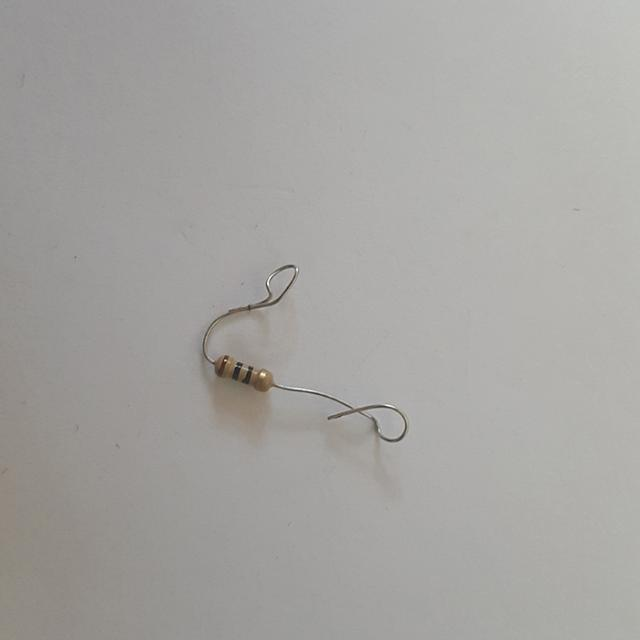black: (231, 362, 241, 378), (242, 366, 251, 382)
brown: (218, 356, 228, 376)
gold: (256, 369, 266, 389)
resistor: (200, 344, 282, 407)
